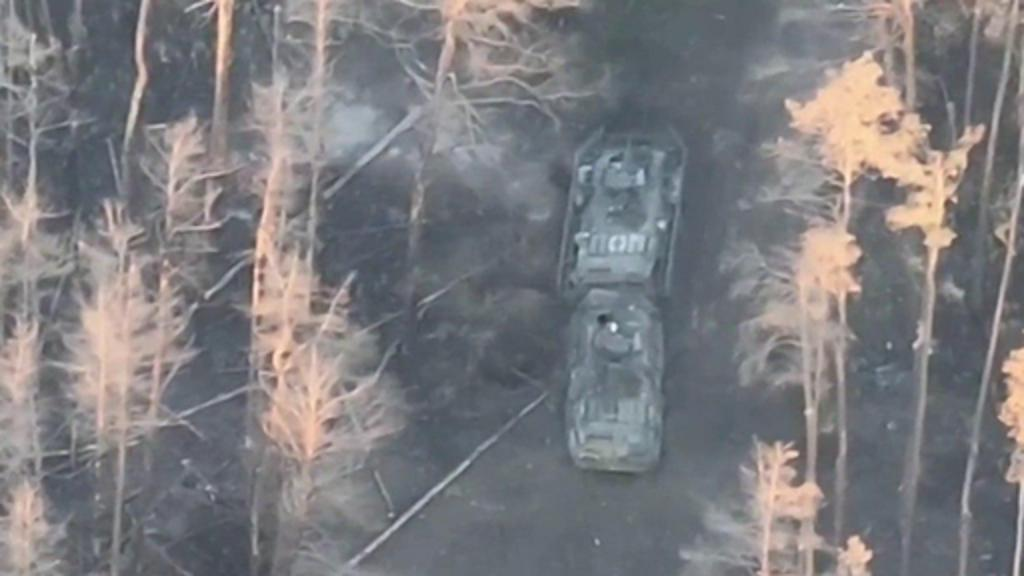APC-IFV: (550, 106, 716, 292), (556, 288, 690, 474)
